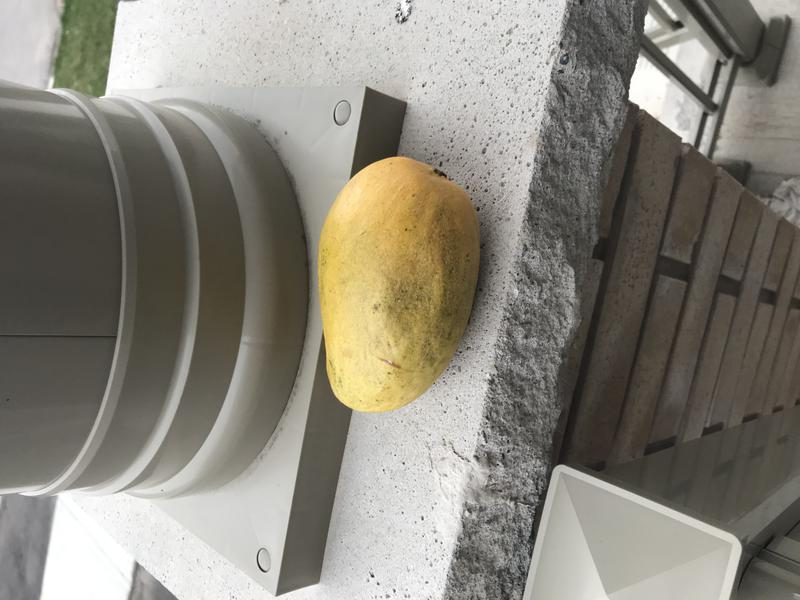mango: (310, 148, 489, 423)
